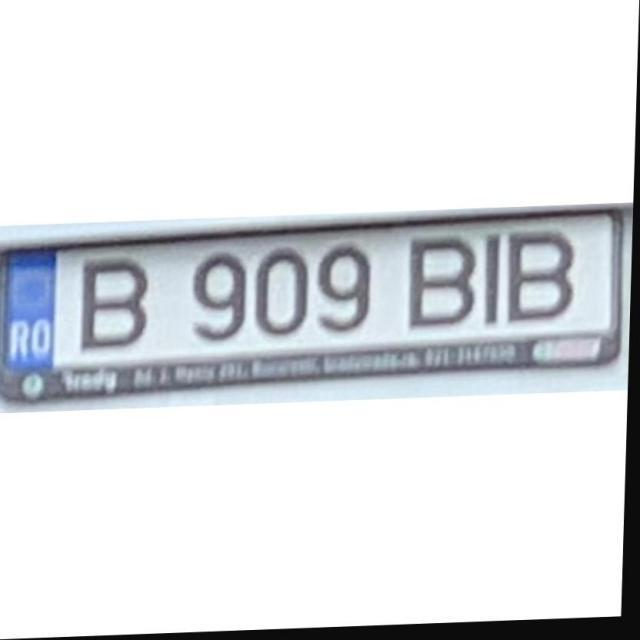license-plates: (0, 207, 625, 404)
